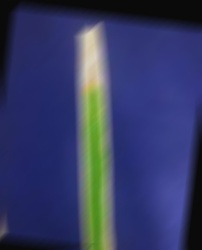Leaf_Blast: (63, 26, 132, 250)
